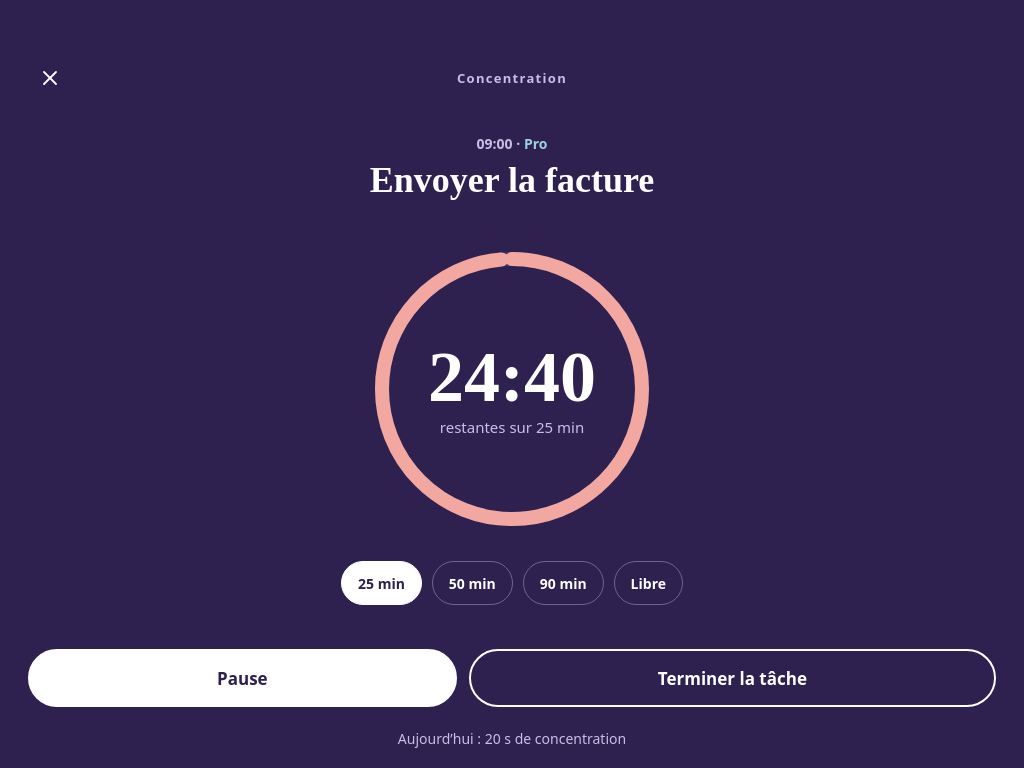
Écran de session Focus (F-01, Focus.html) › critère 7 : sous une minute, l’arrêt est annoncé sans enregistrement
The width and height of the screenshot is (1024, 768).
What coordinates should you click on to do the following:
click the button named "Fermer Focus"
I would click on:
 (50, 78)
Its box is [28,56,72,100].
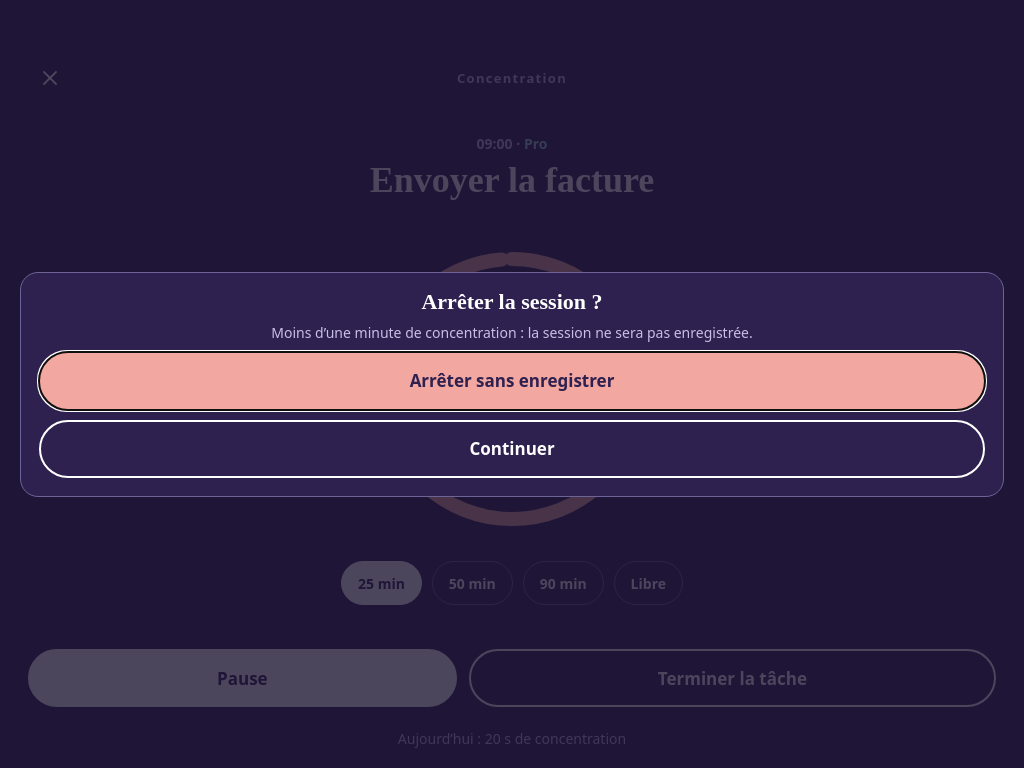
Expected: the text "Moins d’une minute de concentration : la session ne sera pas enregistrée." is shown, [271,322,753,342]
Expected: the button "Arrêter sans enregistrer" is shown, [39,352,985,410]
